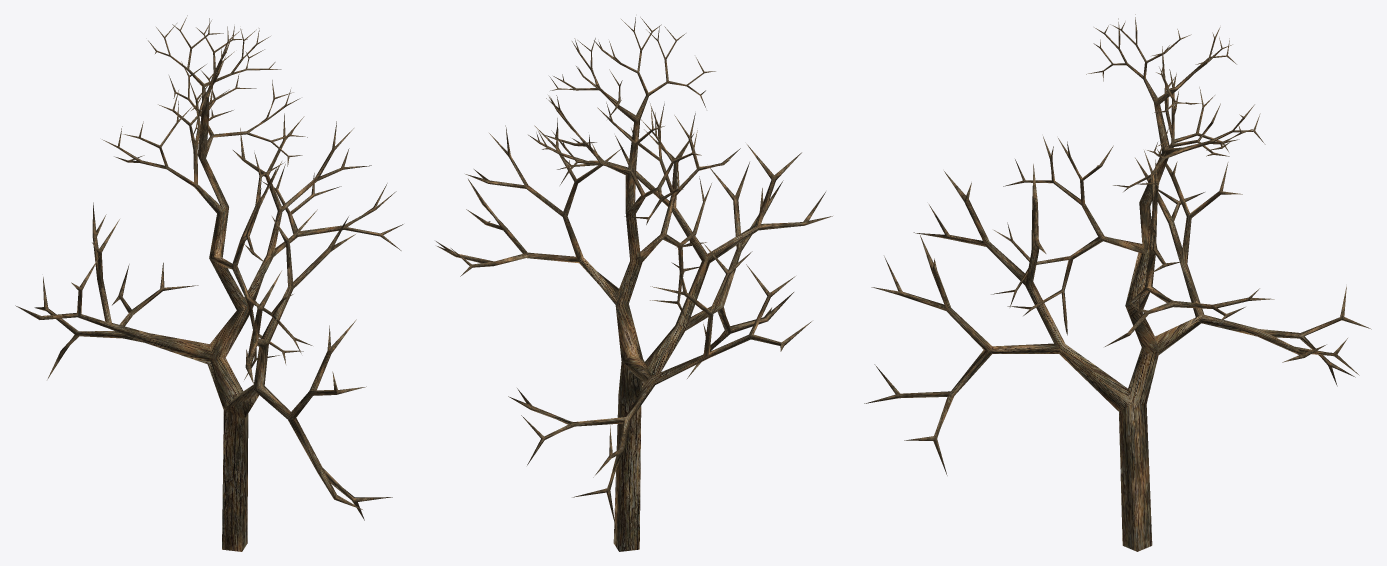
3 views of the same model, side by side, from view 1: azimuth 30°, elevation 25°; view 2: azimuth 150°, elevation 25°; view 3: azimuth 270°, elevation 25° (orthographic).
Parts seen in each view (by area): view 1: tree_016; view 2: tree_016; view 3: tree_016.
Part boxes in pixels (<box>): tree_016: <box>15,15,403,551</box>; tree_016: <box>436,17,832,551</box>; tree_016: <box>864,14,1371,551</box>.
Size of the model in its own units: 7.34 by 9.14 by 10.45.
1 material, 1 textured.
